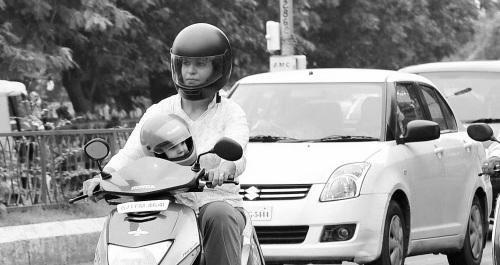Helmet: (169, 23, 233, 123)
